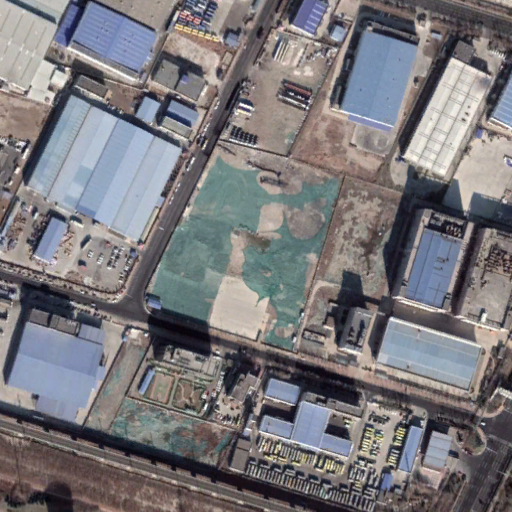cw: (147, 138, 409, 360), (83, 343, 237, 475)
